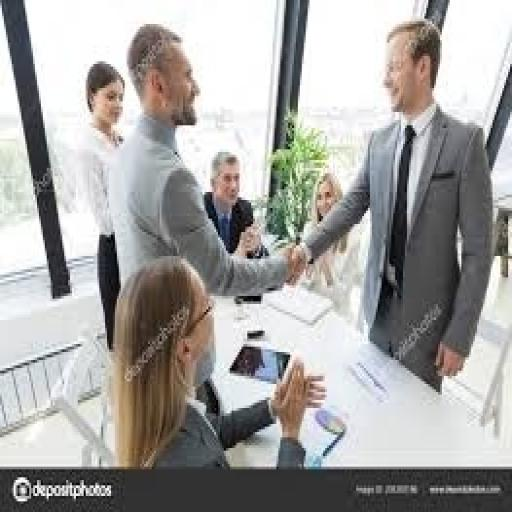clapping: (107, 254, 327, 470), (264, 106, 372, 353), (168, 134, 312, 316)
